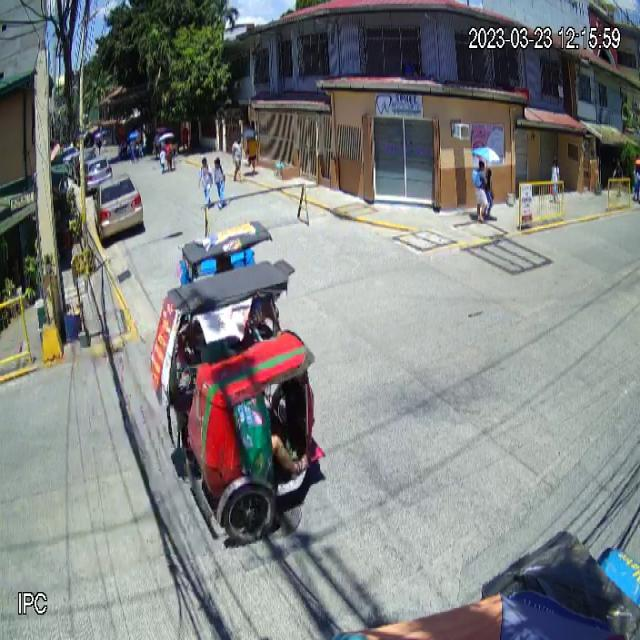Tricycle: (150, 258, 328, 549)
